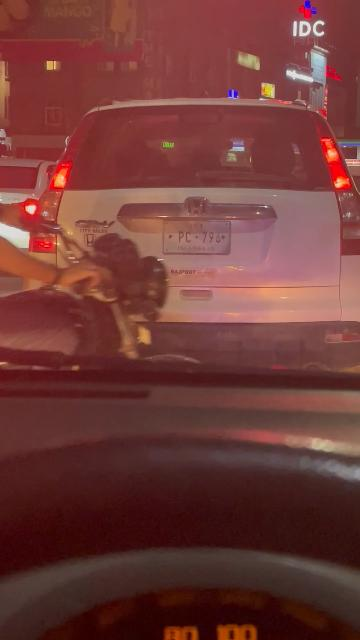plate: (165, 220, 232, 254)
